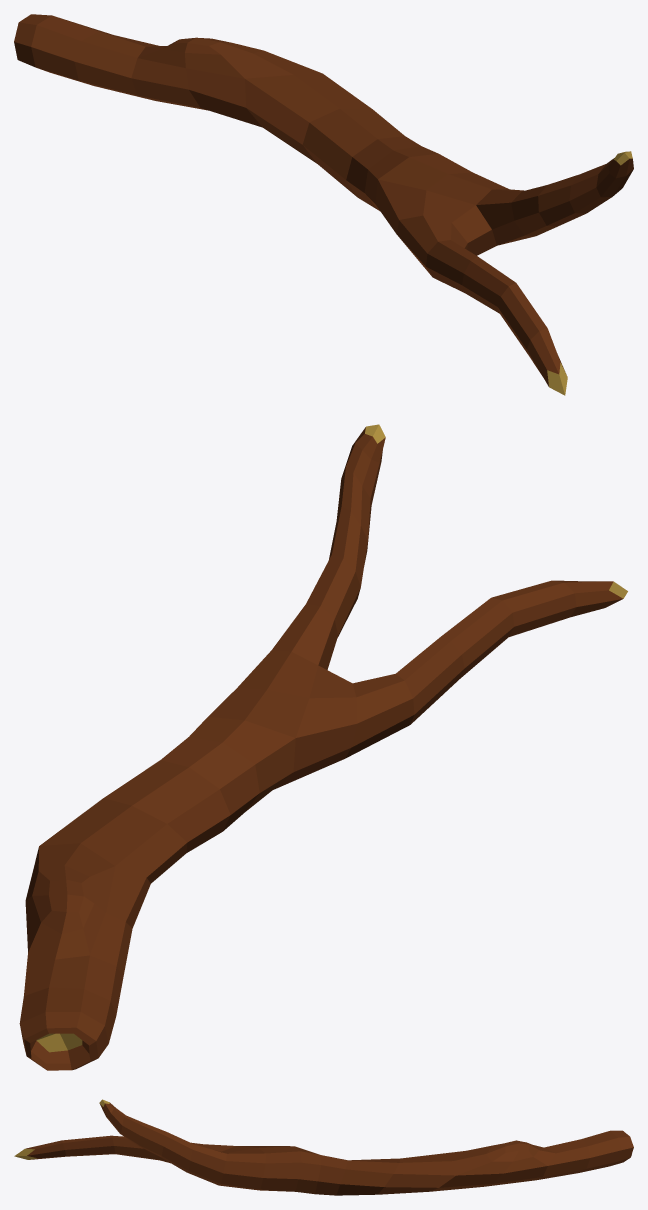
File: Log_2.fbx
3 views of the same model, one above another, from view 1: azimuth 30°, elevation 25°; view 2: azimuth 150°, elevation 25°; view 3: azimuth 270°, elevation 25° (orthographic). The views are drawn at different scales.
Parts seen in each view (by area): view 1: Log_2; view 2: Log_2; view 3: Log_2.
Part boxes in pixels (x1,y1,x2,y2): Log_2: (14,14,633,395); Log_2: (19,424,627,1070); Log_2: (14,1099,633,1195).
Size of the model in its own units: 89.1 by 75.51 by 384.
